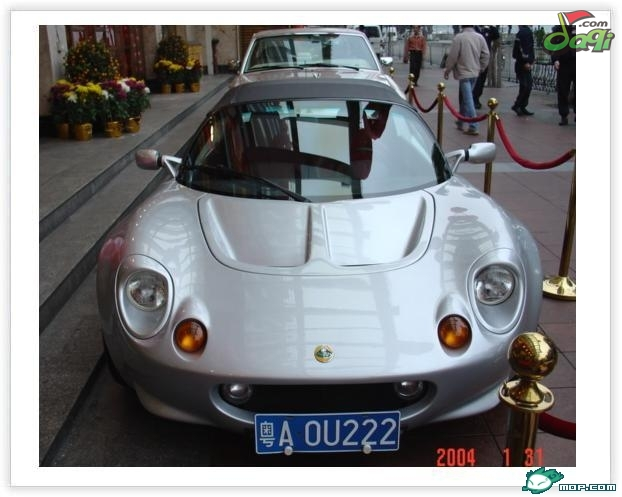plate_number: (252, 413, 405, 454)
